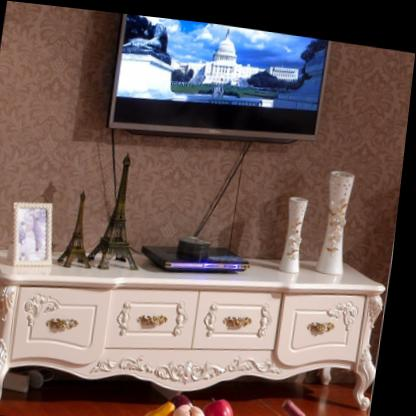TV stand: (0, 237, 392, 412)
